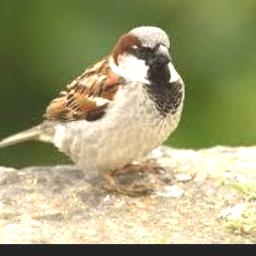Sparrow: (0, 26, 185, 197)
